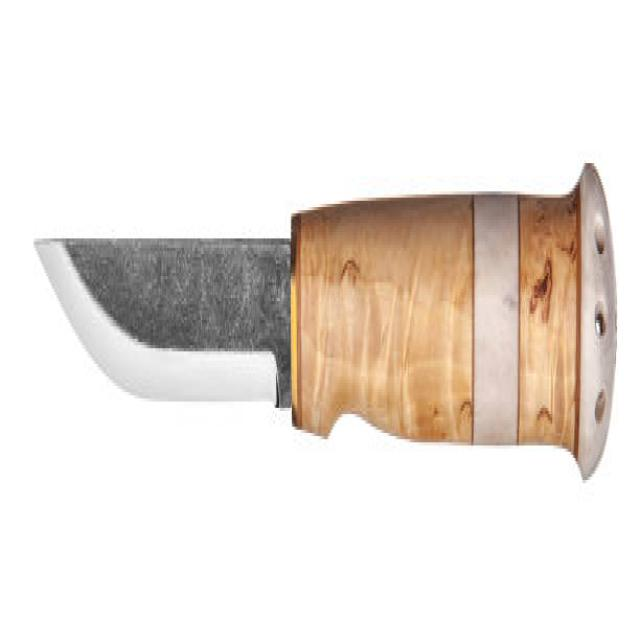knife: (33, 146, 624, 496)
